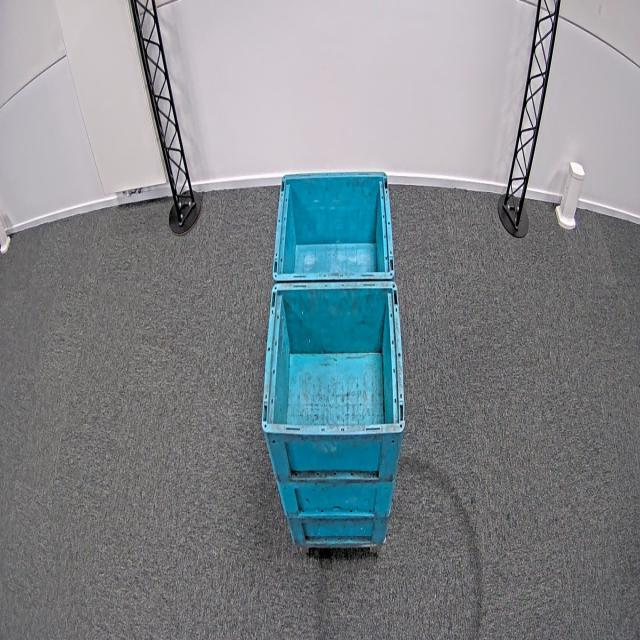RollB8: (257, 168, 407, 437)
